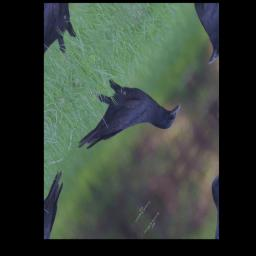Crow: (63, 38, 184, 202)
